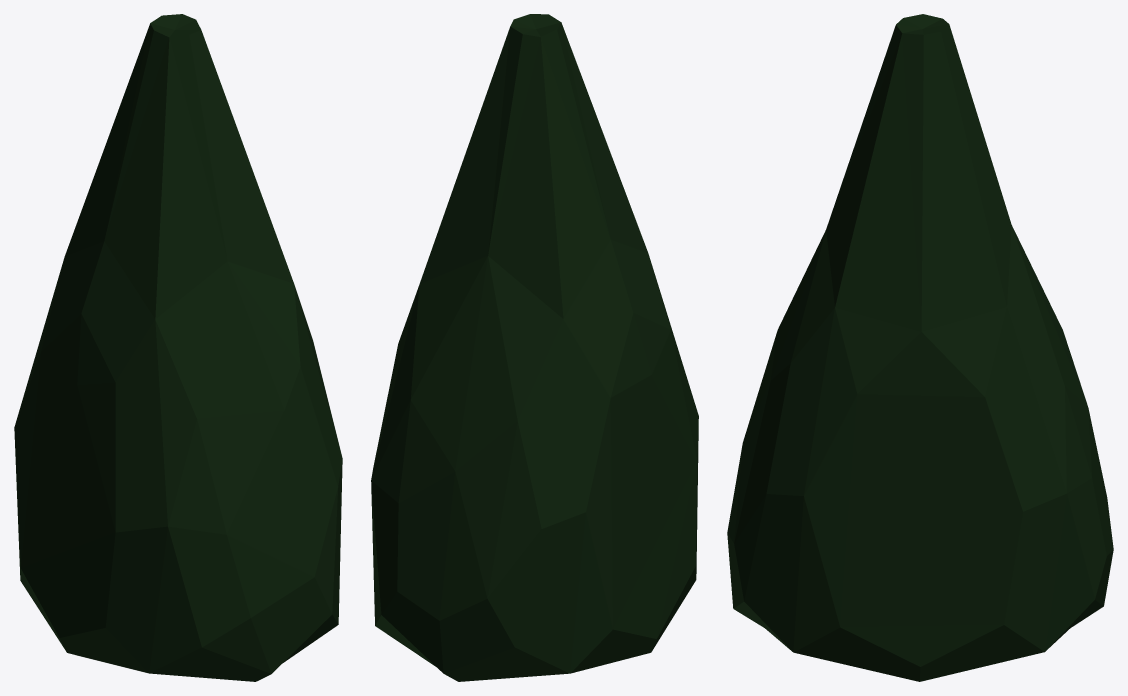
Rendered from Bottle.fbx.
3 renders of one model, left to right at view 1: azimuth 30°, elevation 25°; view 2: azimuth 150°, elevation 25°; view 3: azimuth 270°, elevation 25°, orthographic.
Parts seen in each view (by area): view 1: Cube; view 2: Cube; view 3: Cube.
Boxes of the visible parts, left/top/right/bottom form: Cube: left=14, top=14, right=342, bottom=681; Cube: left=371, top=14, right=698, bottom=681; Cube: left=727, top=14, right=1113, bottom=681.
Size of the model in its own units: 89.08 by 214 by 124.
